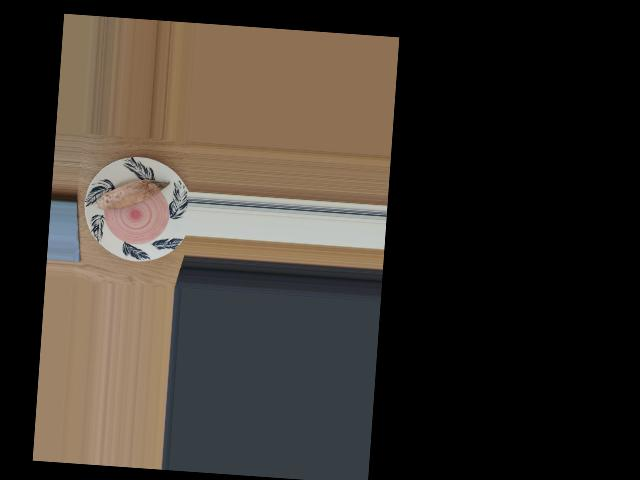sweet_potato: (100, 175, 162, 216)
